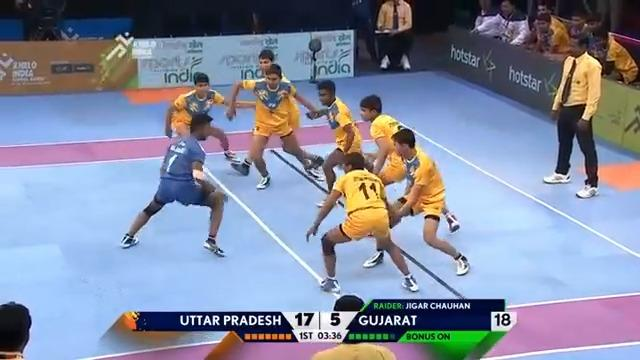Player: (305, 151, 419, 293), (363, 127, 470, 276), (226, 62, 325, 189), (542, 30, 603, 198), (305, 79, 363, 207), (164, 71, 239, 161), (358, 93, 408, 186)
Raider: (119, 108, 227, 257)
referee: (374, 0, 414, 71), (347, 0, 379, 63), (23, 0, 70, 40)
